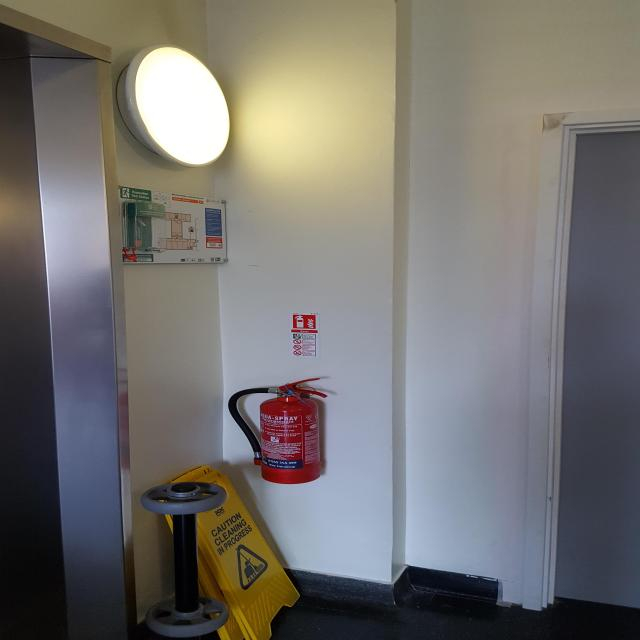fire_extinguisher: (222, 376, 337, 486)
